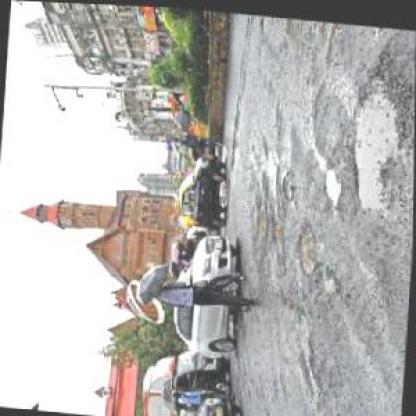pothole: (346, 74, 404, 214), (293, 220, 320, 272), (318, 160, 342, 202), (277, 165, 294, 197)
